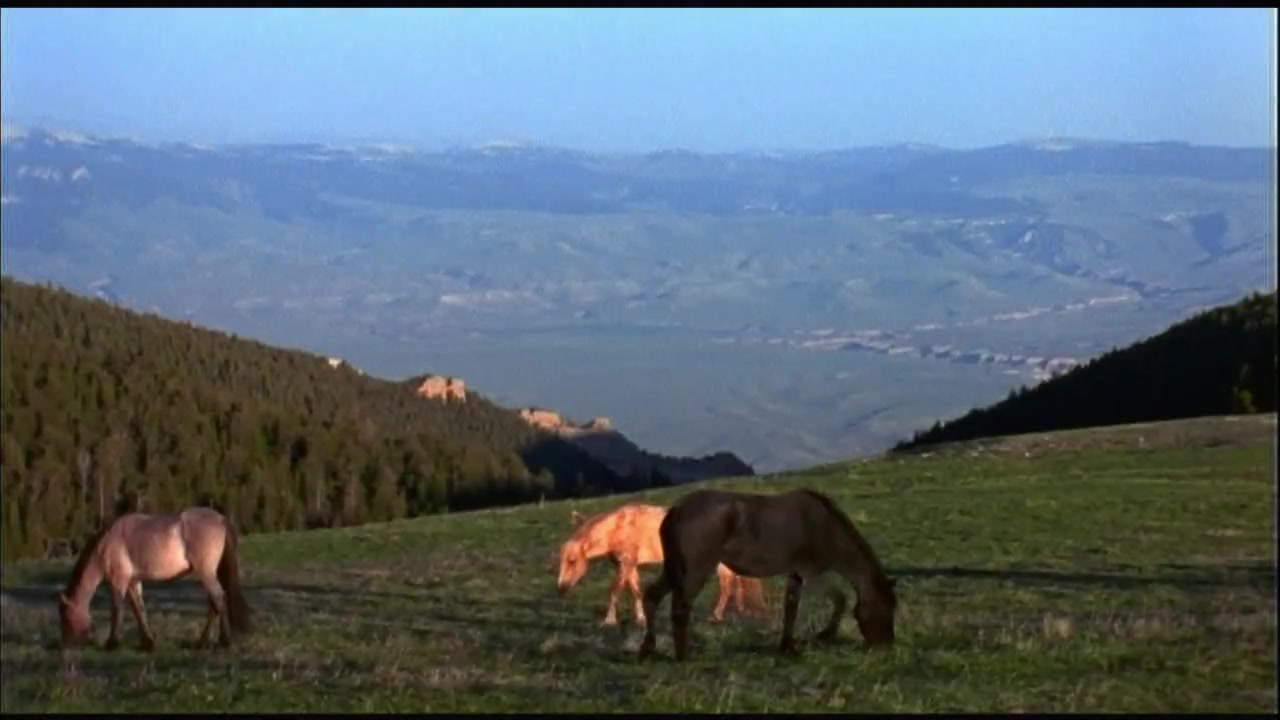horse: (638, 488, 905, 661)
